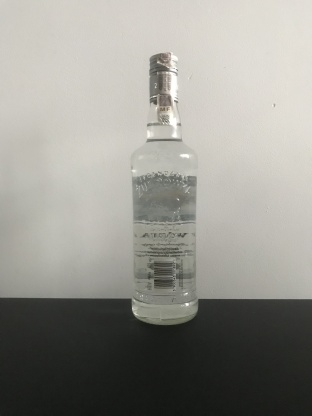nakretka: (147, 50, 180, 105)
